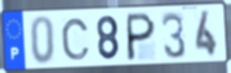0: (28, 15, 57, 68)
3: (160, 10, 187, 61)
4: (194, 9, 219, 59)
8: (95, 15, 121, 62)
C: (59, 17, 92, 62)
P: (125, 11, 157, 63)
